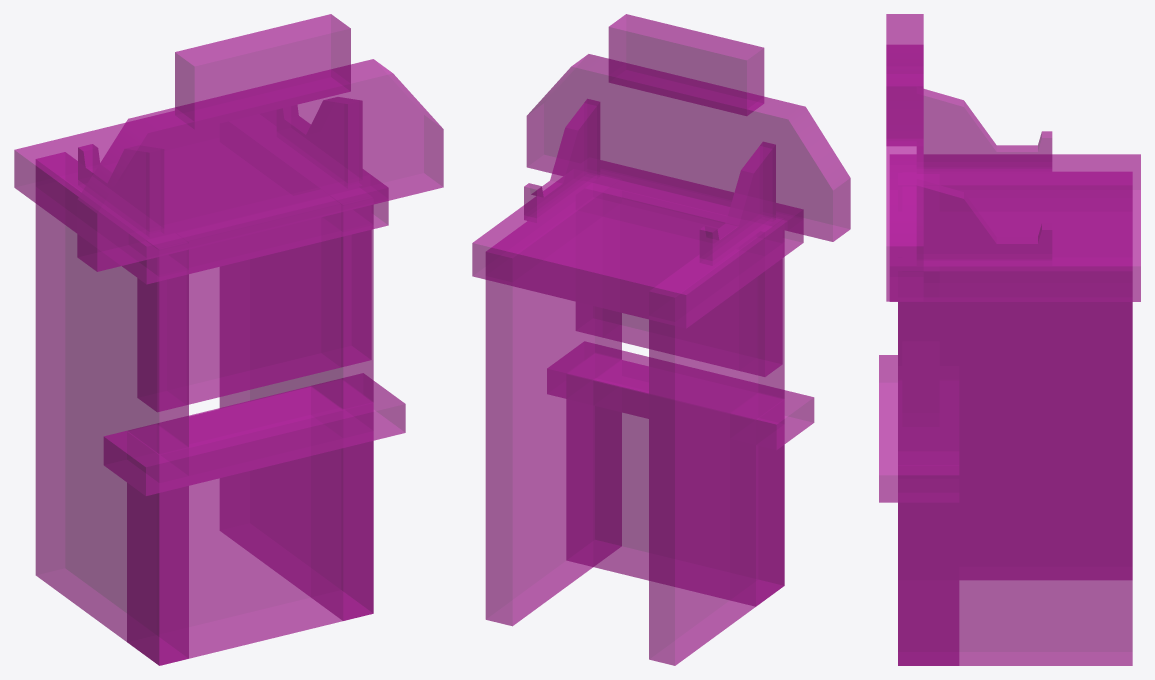
The model's file is SM_Prop_Ticket_Booth_01_Collision.fbx.
The picture shows the model from 3 angles, left to right: view 1: azimuth 30°, elevation 25°; view 2: azimuth 150°, elevation 25°; view 3: azimuth 270°, elevation 25°; orthographic projection. The views are drawn at different scales.
Parts seen in each view (by area): view 1: SM_Prop_Ticket_Booth_01_Collision; view 2: SM_Prop_Ticket_Booth_01_Collision; view 3: SM_Prop_Ticket_Booth_01_Collision.
Part boxes in pixels (x1,y1,x2,y2): SM_Prop_Ticket_Booth_01_Collision: (14,14,443,665); SM_Prop_Ticket_Booth_01_Collision: (472,14,850,665); SM_Prop_Ticket_Booth_01_Collision: (879,14,1140,665).
Bounding box in the file's own units: 182 × 300 × 126.
